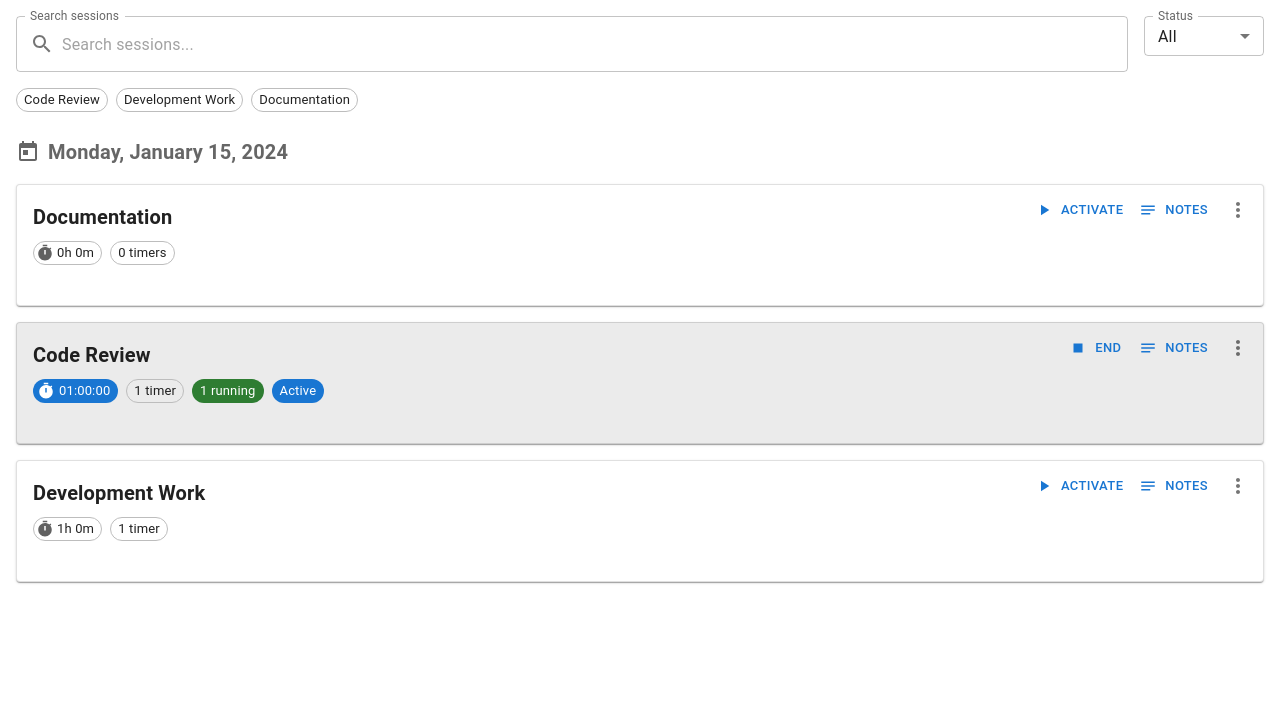
Test: SessionList › Filtering › should show a no-matches state whose Clear filters action restores the list
The image size is (1280, 720).
Type "zzz-nothing-matches" into the field labelled "Search sessions" at [595, 44], box [62,16,1128,72]
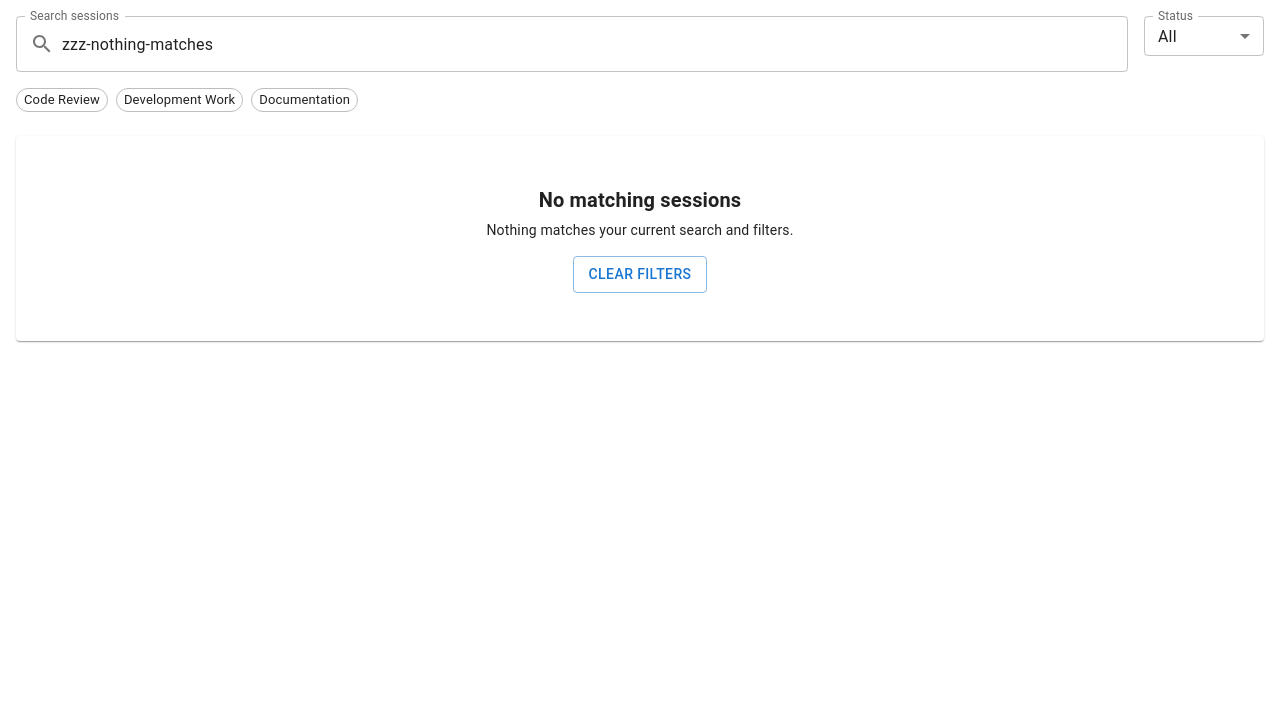
Expected: the heading "No matching sessions" is shown, [539,188,741,212]
Click the button "Clear filters" at [640, 274], box [573,256,707,292]
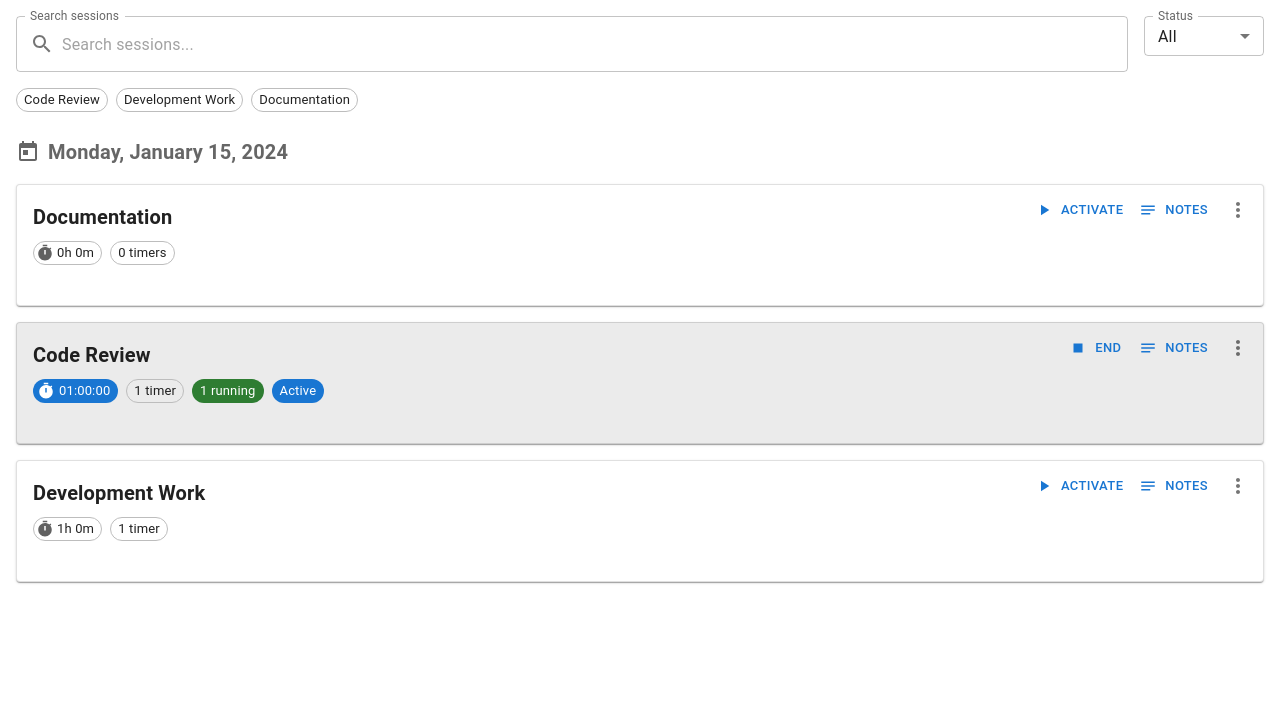
Expected: the text "Development Work" is shown, [117,90,242,110]
Expected: the heading "No matching sessions" is gone
